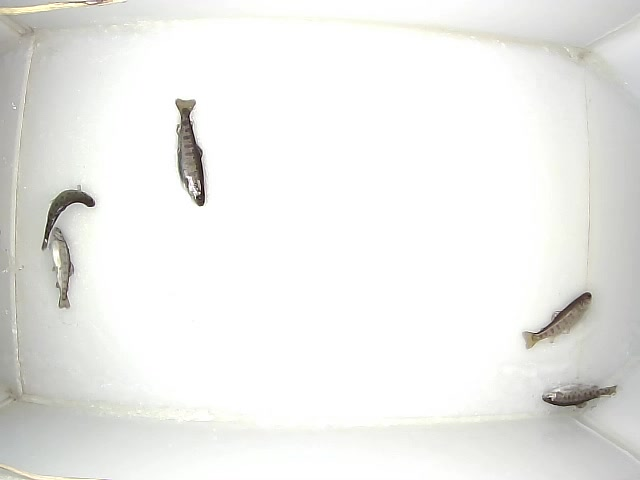fish: (522, 292, 592, 349), (41, 185, 95, 251), (175, 98, 205, 207), (49, 227, 74, 309), (542, 383, 617, 408)
